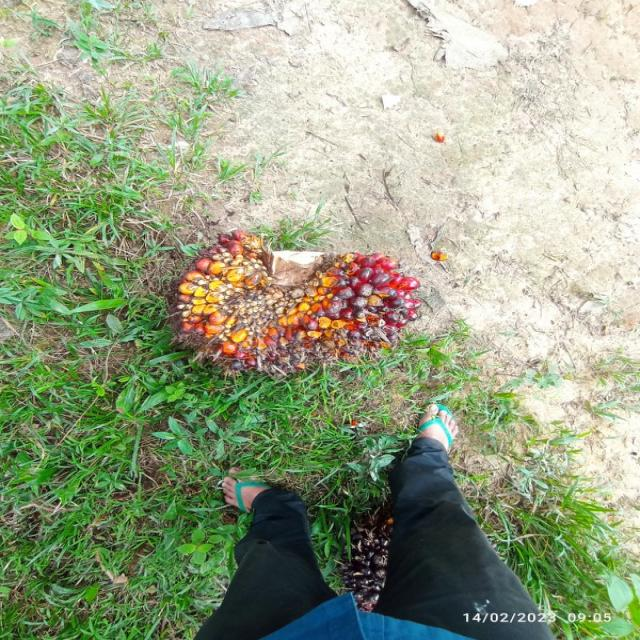fraksi 1: (128, 179, 477, 416)
